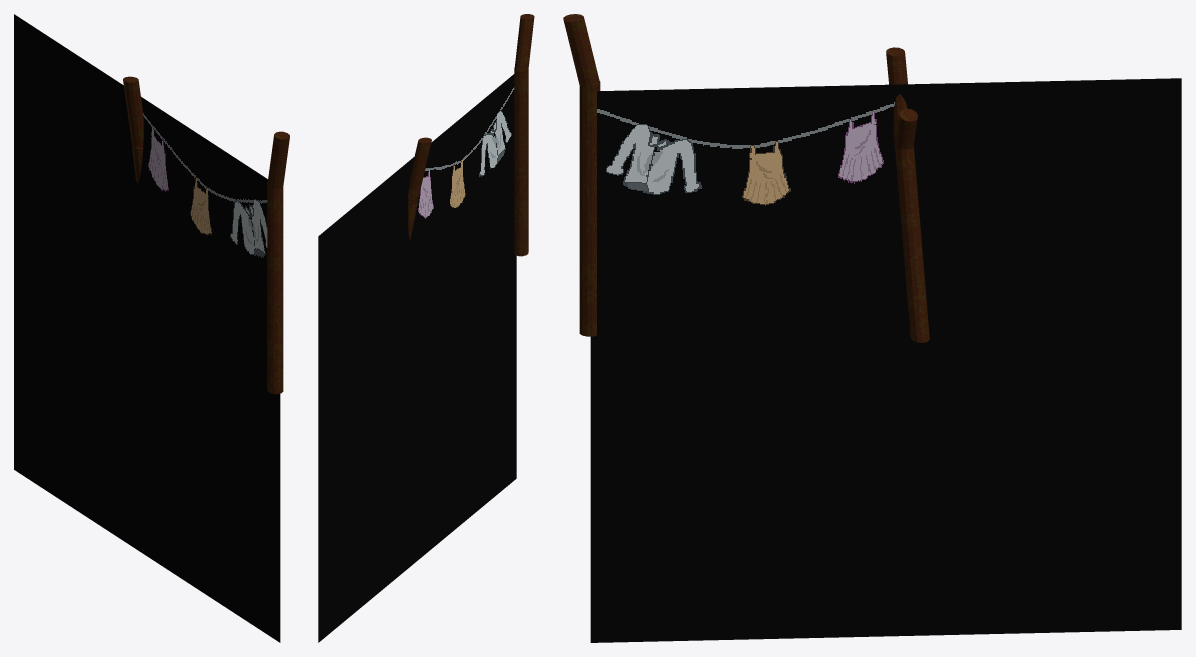
File: tenderropa.glb
3 views of the same model, side by side, from view 1: azimuth 30°, elevation 25°; view 2: azimuth 150°, elevation 25°; view 3: azimuth 270°, elevation 25° (orthographic). The views are drawn at different scales.
Visible parts, largest first — view 1: plane; view 2: plane; view 3: plane.
Part boxes in pixels (x1,y1,x2,y2): plane: [14, 14, 289, 642]; plane: [318, 14, 534, 642]; plane: [563, 14, 1181, 642].
Bounding box in the file's own units: 1.7 × 17.21 × 15.48.
Materials: 2 (2 with a texture image).
